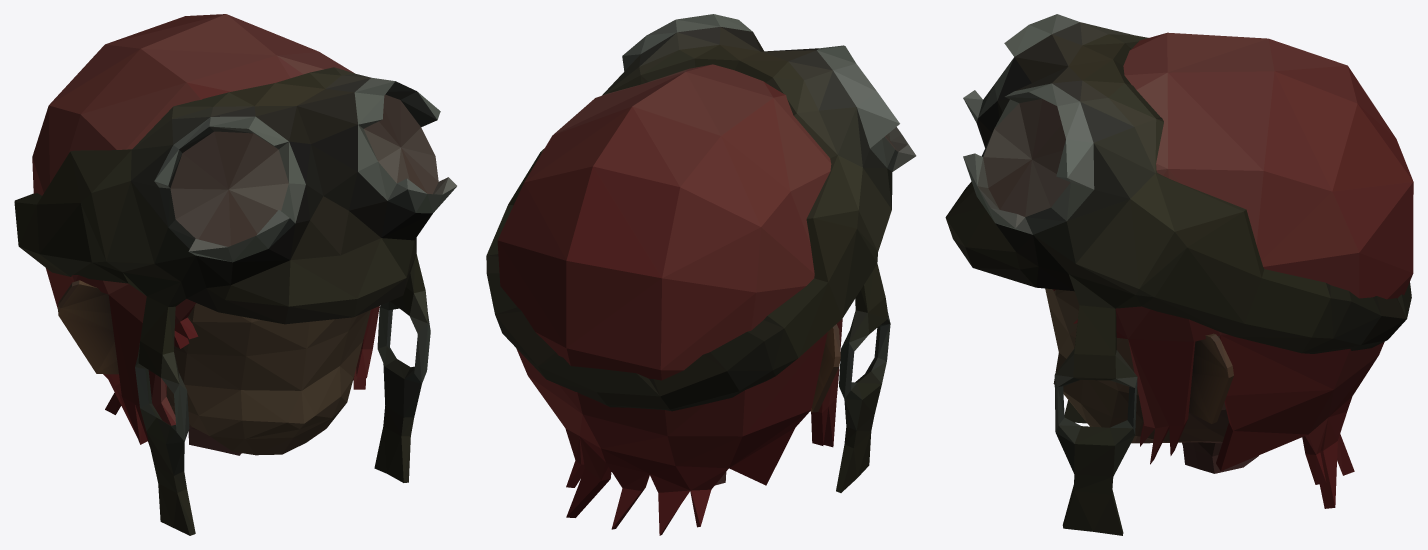
File: helm_darkskin_standard_red_goggles.fbx
The picture shows the model from 3 angles, left to right: view 1: azimuth 30°, elevation 25°; view 2: azimuth 150°, elevation 25°; view 3: azimuth 270°, elevation 25°; orthographic projection. The views are drawn at different scales.
Visible parts, largest first — view 1: helm_darkskin_standard_red_goggles; view 2: helm_darkskin_standard_red_goggles; view 3: helm_darkskin_standard_red_goggles.
Boxes of the visible parts, left/top/right/bottom form: helm_darkskin_standard_red_goggles: left=14, top=14, right=456, bottom=535; helm_darkskin_standard_red_goggles: left=486, top=14, right=916, bottom=535; helm_darkskin_standard_red_goggles: left=945, top=14, right=1413, bottom=535.
Bounding box in the file's own units: 1.19 × 1.39 × 1.39.
